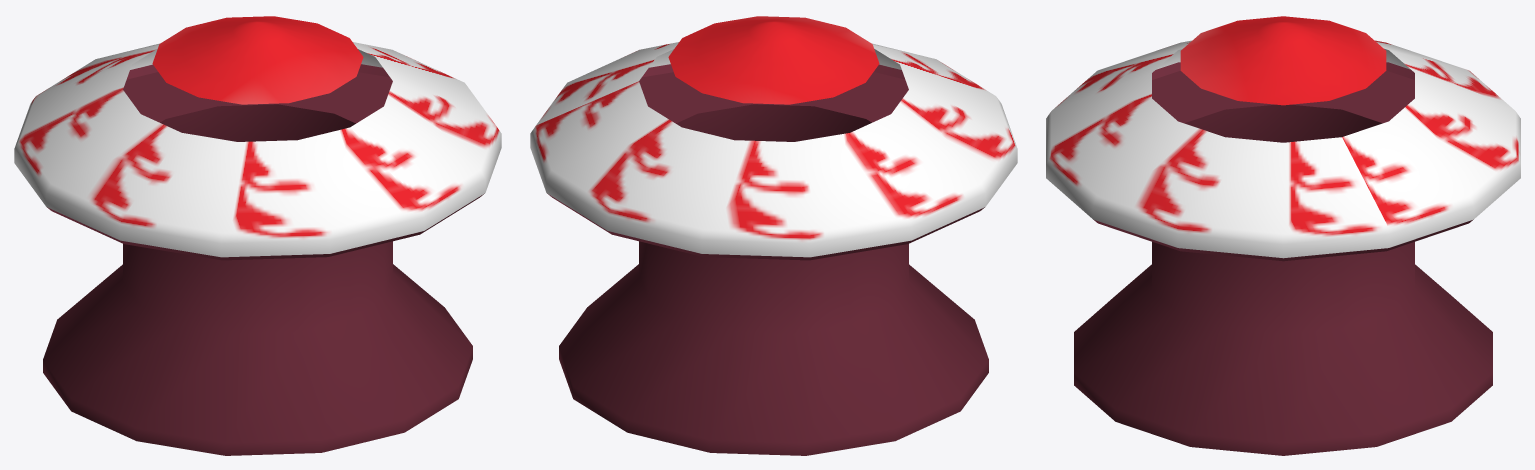
Rendered from Mushroom Bumper.fbx.
The picture shows the model from 3 angles, left to right: view 1: azimuth 30°, elevation 25°; view 2: azimuth 150°, elevation 25°; view 3: azimuth 270°, elevation 25°; orthographic projection.
Parts seen in each view (by area): view 1: Mushroom Bumper; view 2: Mushroom Bumper; view 3: Mushroom Bumper.
Boxes of the visible parts, bbox=[...] form: Mushroom Bumper: bbox=[14, 16, 501, 455]; Mushroom Bumper: bbox=[530, 16, 1017, 455]; Mushroom Bumper: bbox=[1046, 16, 1520, 455].
Bounding box in the file's own units: 96.88 × 94.45 × 75.07.
Materials: 1 (1 with a texture image).
